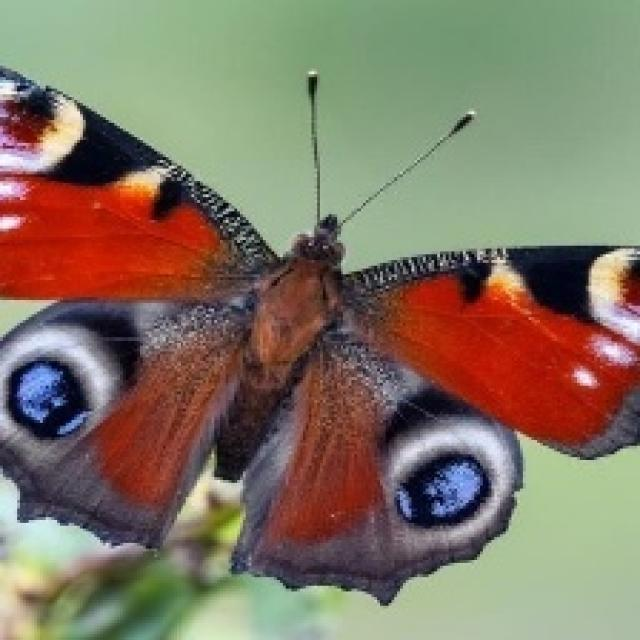butterfly: (0, 43, 637, 606)
